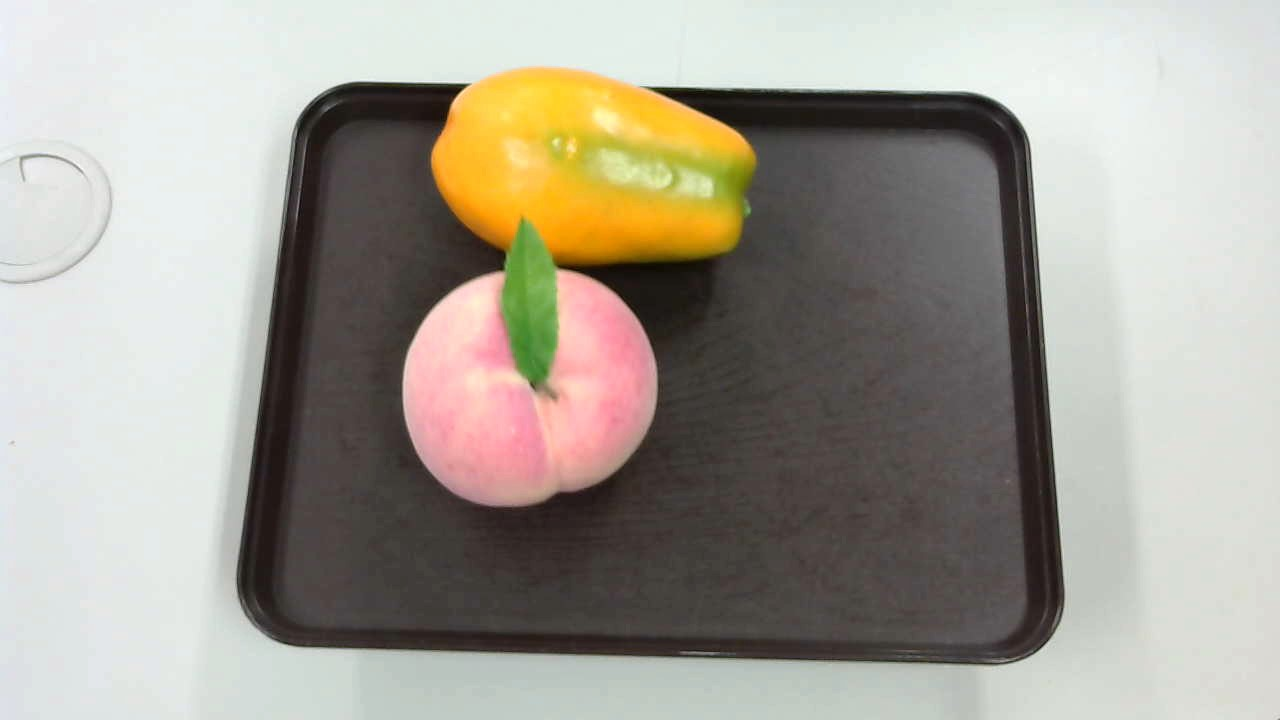papya: (419, 62, 756, 283)
peach: (395, 221, 665, 504)
